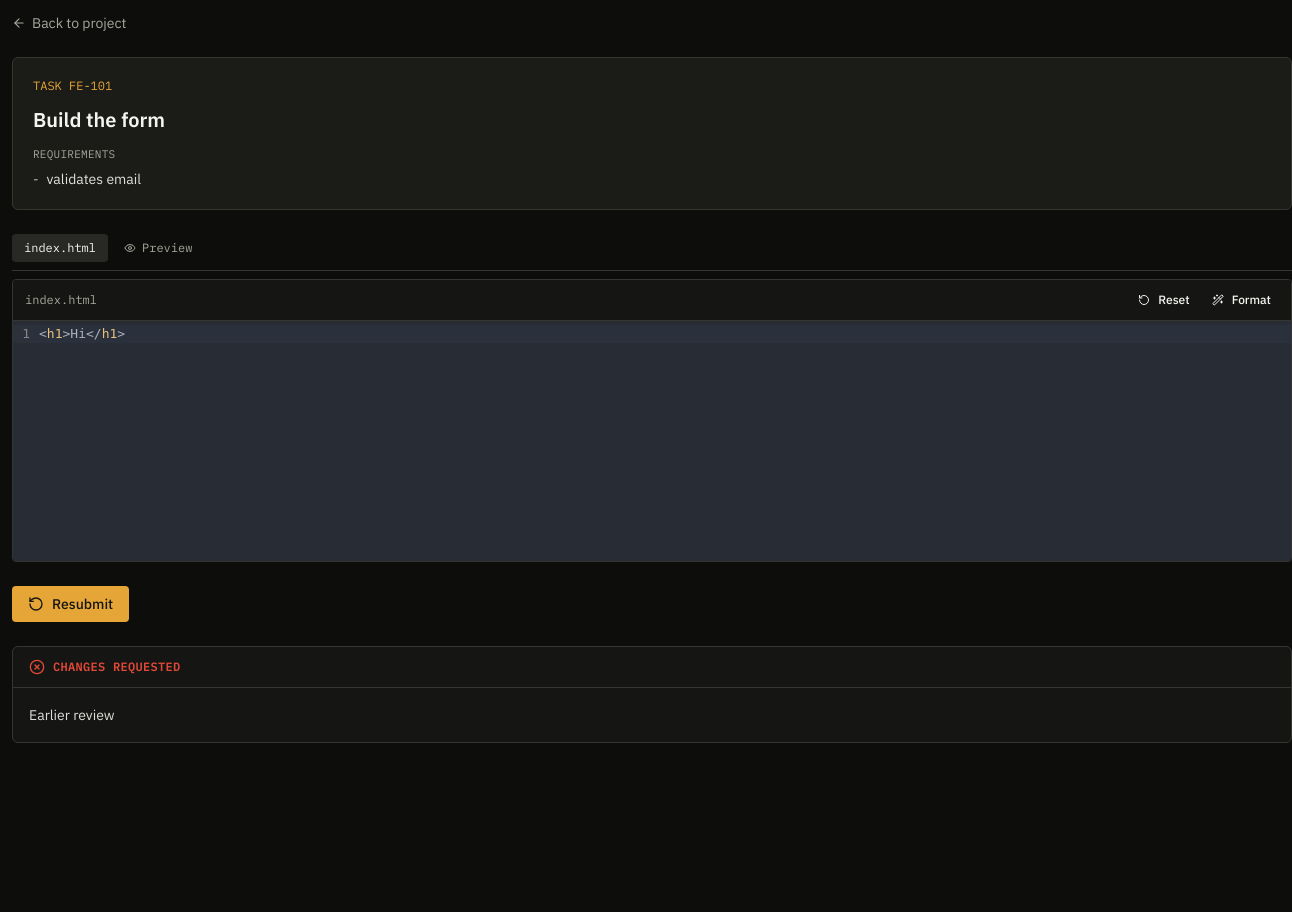
ProjectTaskRunner › after a review › scrolls the fresh review into view, but not an existing one on first load
The image size is (1292, 912).
Expected: the text "Earlier review" is shown, [29,706,115,724]
What coordinates should you click on to do the following:
click the button "Resubmit"
I would click on:
 (71, 604)
Its box is [12,586,129,622].
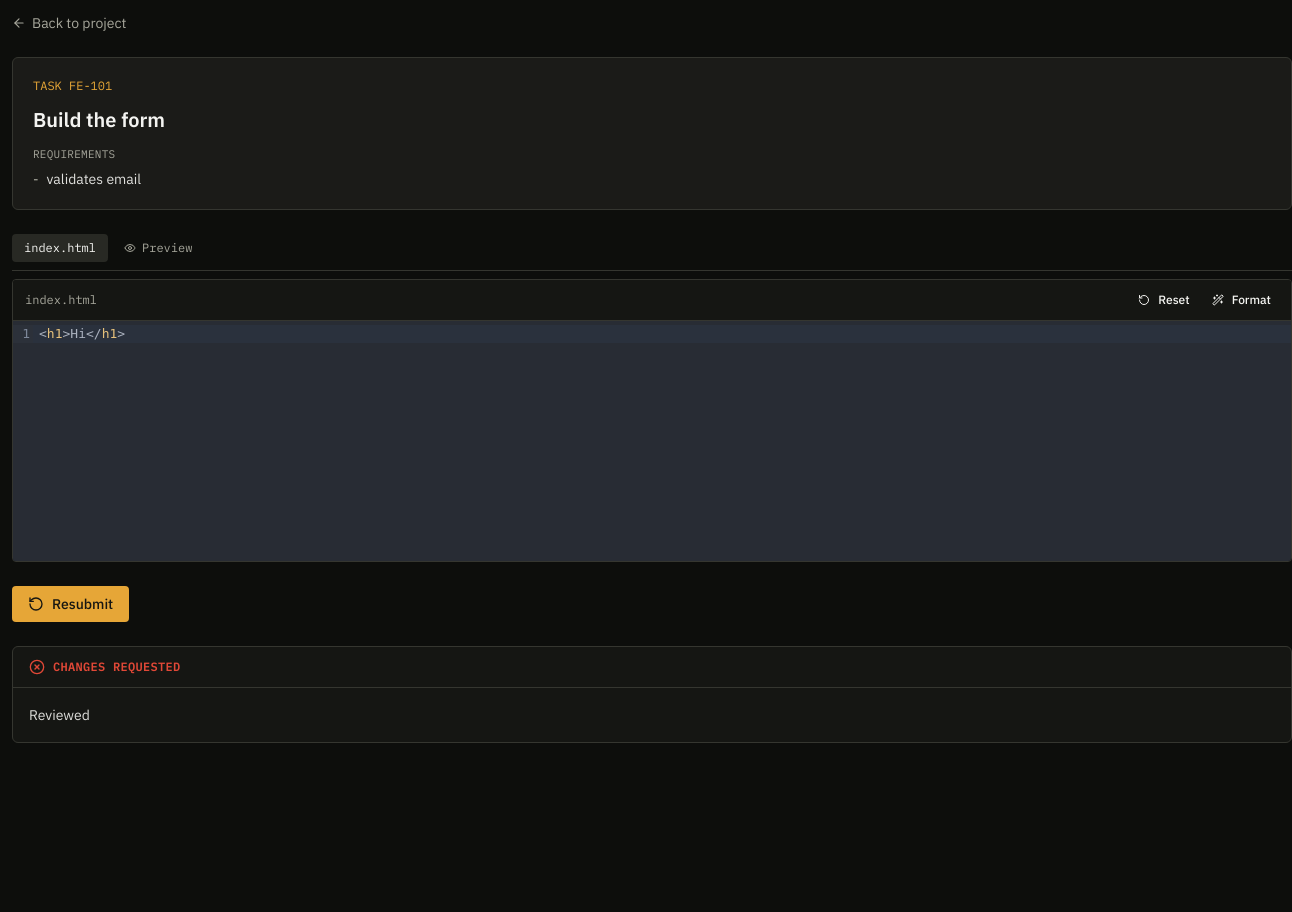
Expected: the text "Reviewed" is shown, [29,706,90,724]
